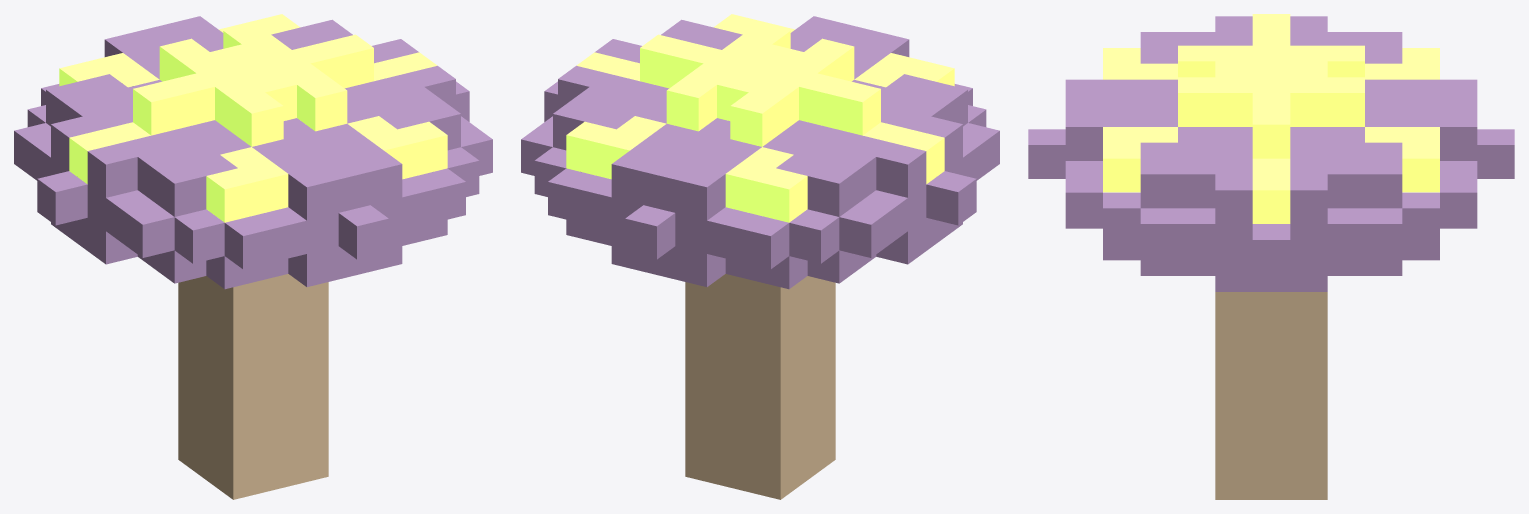
File: alien-biosphere-glow-cap-bc56f91e__22732.glb
The picture shows the model from 3 angles, left to right: view 1: azimuth 30°, elevation 25°; view 2: azimuth 150°, elevation 25°; view 3: azimuth 270°, elevation 25°; orthographic projection.
Parts seen in each view (by area): view 1: glow-cap; view 2: glow-cap; view 3: glow-cap.
Boxes of the visible parts, bbox=[...] form: glow-cap: bbox=[14, 14, 492, 499]; glow-cap: bbox=[521, 14, 999, 499]; glow-cap: bbox=[1028, 14, 1514, 499].
Bounding box in the file's own units: 1.82 × 1.68 × 1.82.
